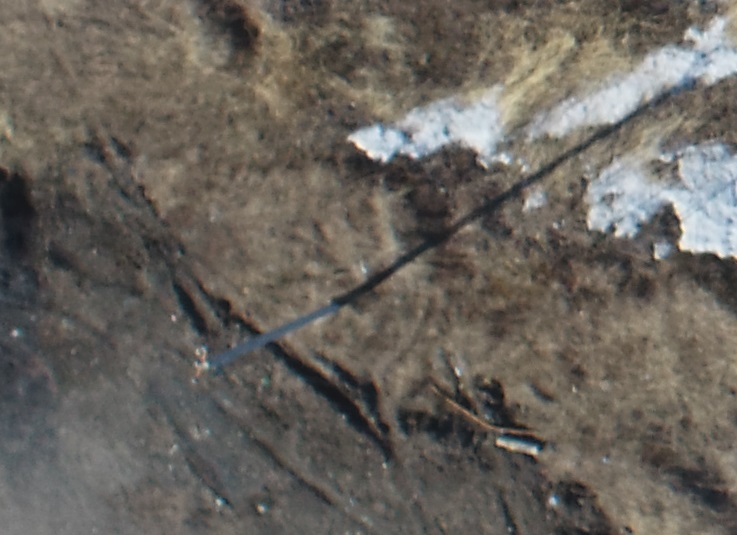opora: (188, 269, 402, 386)
